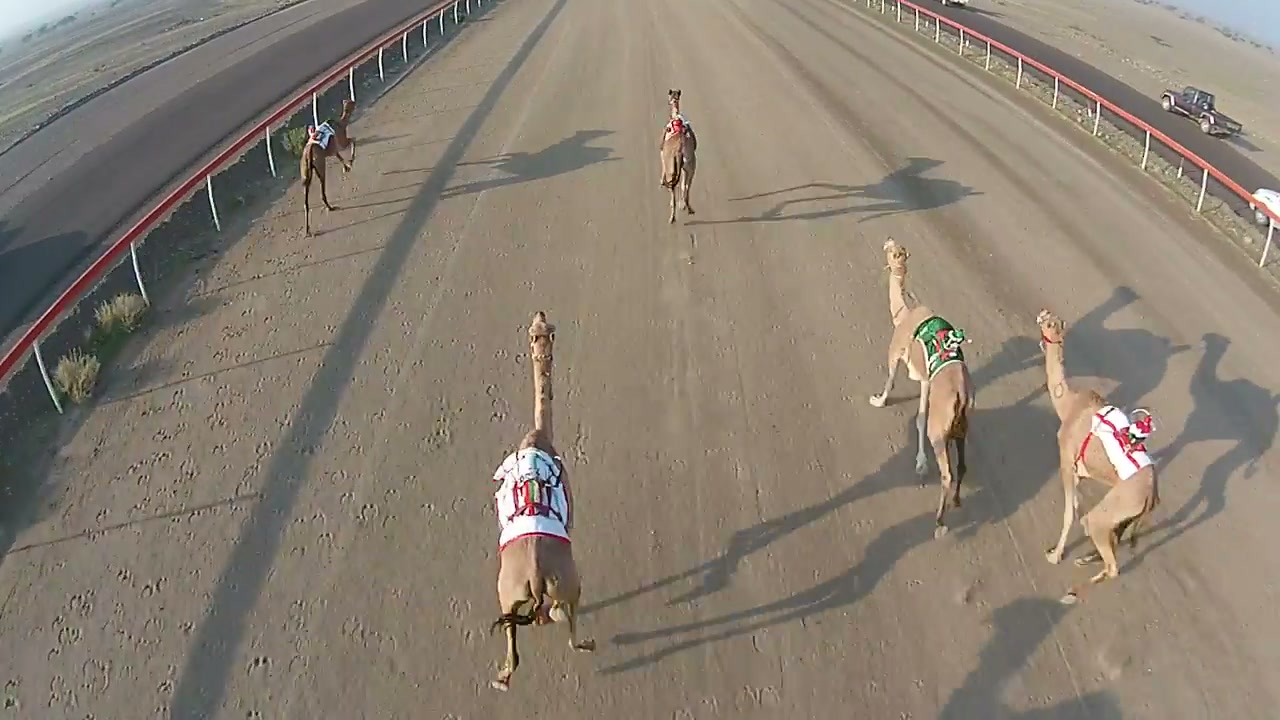animal_foot_print: (15, 273, 248, 719), (253, 357, 542, 584)
